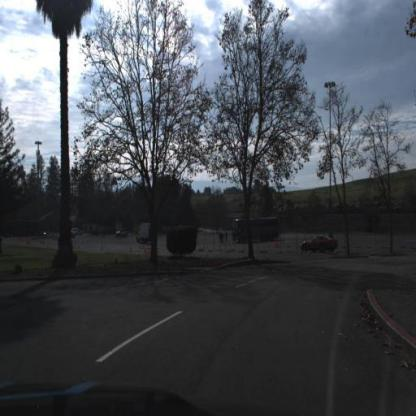car: (298, 231, 337, 255), (113, 225, 130, 240)
truck: (232, 214, 281, 246), (135, 221, 160, 245)
